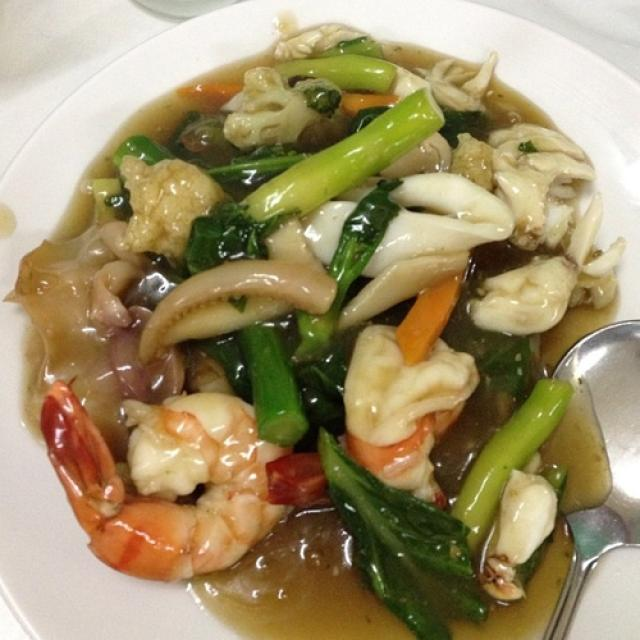面条主食: (22, 21, 616, 618)
